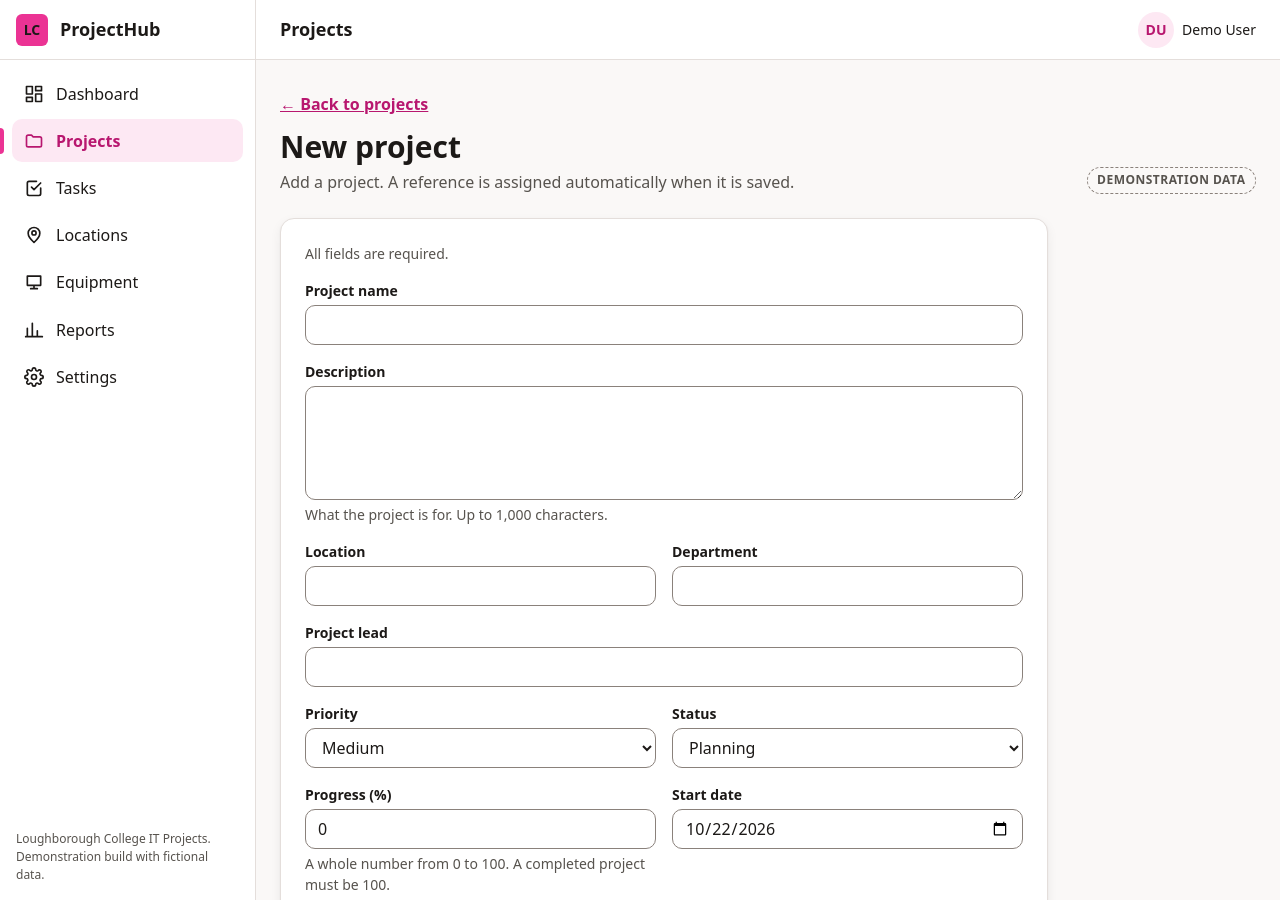
Test case: creating a project › saves, shows a confirmation and opens the new project’s detail page
This screenshot has width=1280, height=900.
Expected: the heading "New project" is shown, [280,126,461,167]
Type "Foxtrot Wi-Fi" into the field labelled "Project name" at [664, 324], box [305,304,1023,344]
Type "Add access points." into the text box labelled "Description" at [664, 442], box [305,386,1023,500]
Type "Test Annexe" into the field labelled "Location" at [480, 586], box [305,566,656,606]
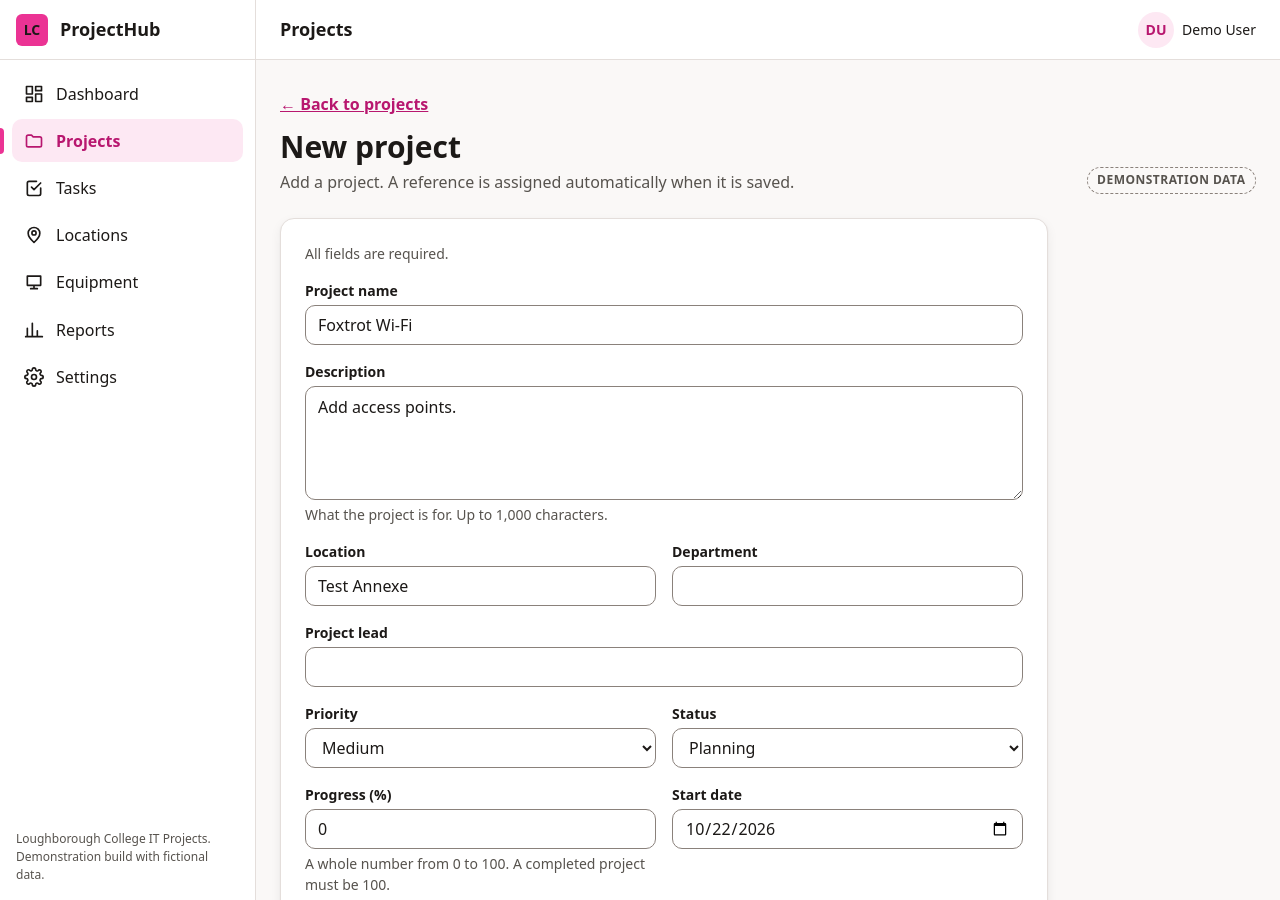
Type "Infrastructure" into the field labelled "Department" at [848, 586], box [672,566,1023,606]
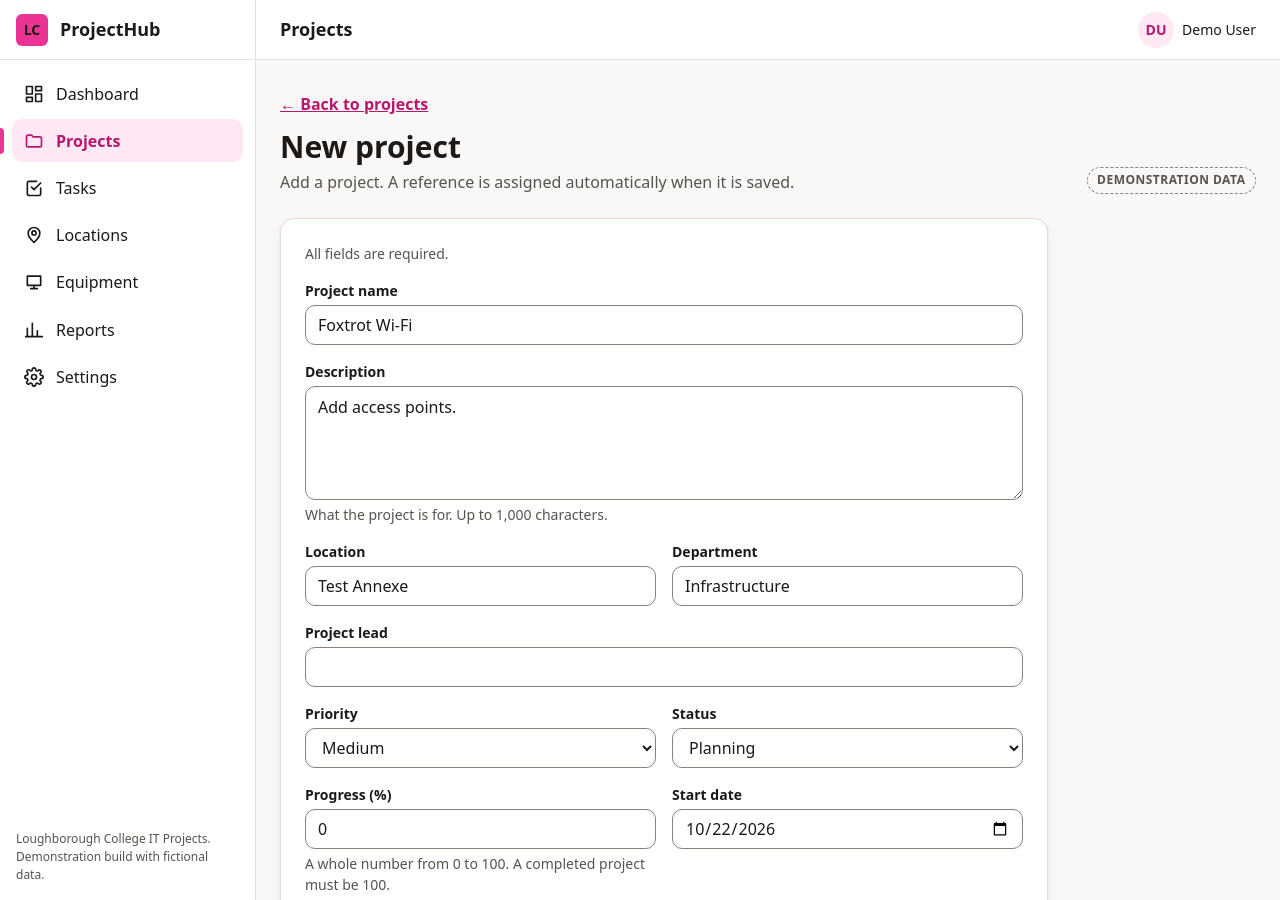
Type "Jamie Cole" into the field labelled "Project lead" at [664, 666], box [305,646,1023,686]
(page scrolled)
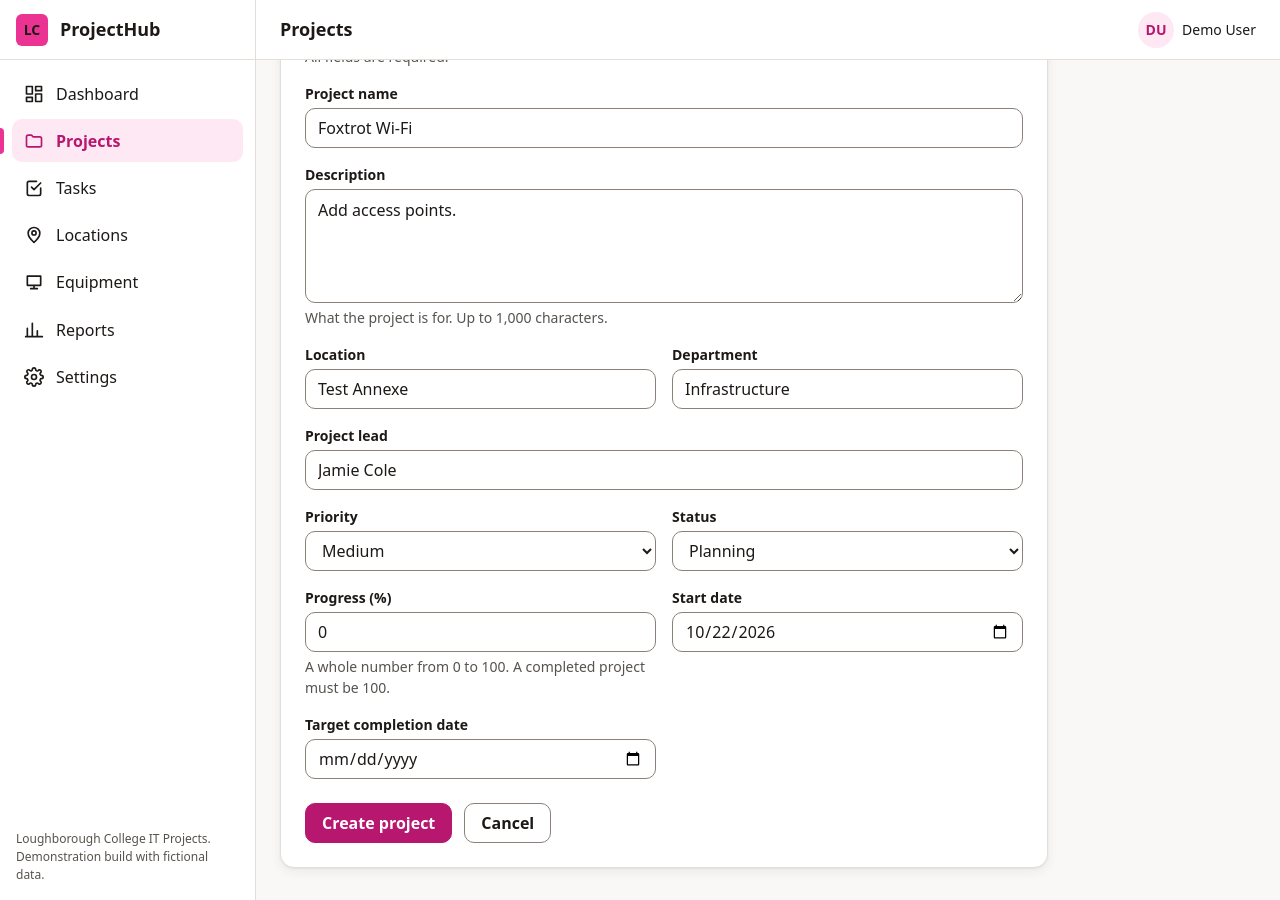
Type "2099-08-01" into the date field labelled "Target completion date" at [480, 758], box [305,738,656,778]
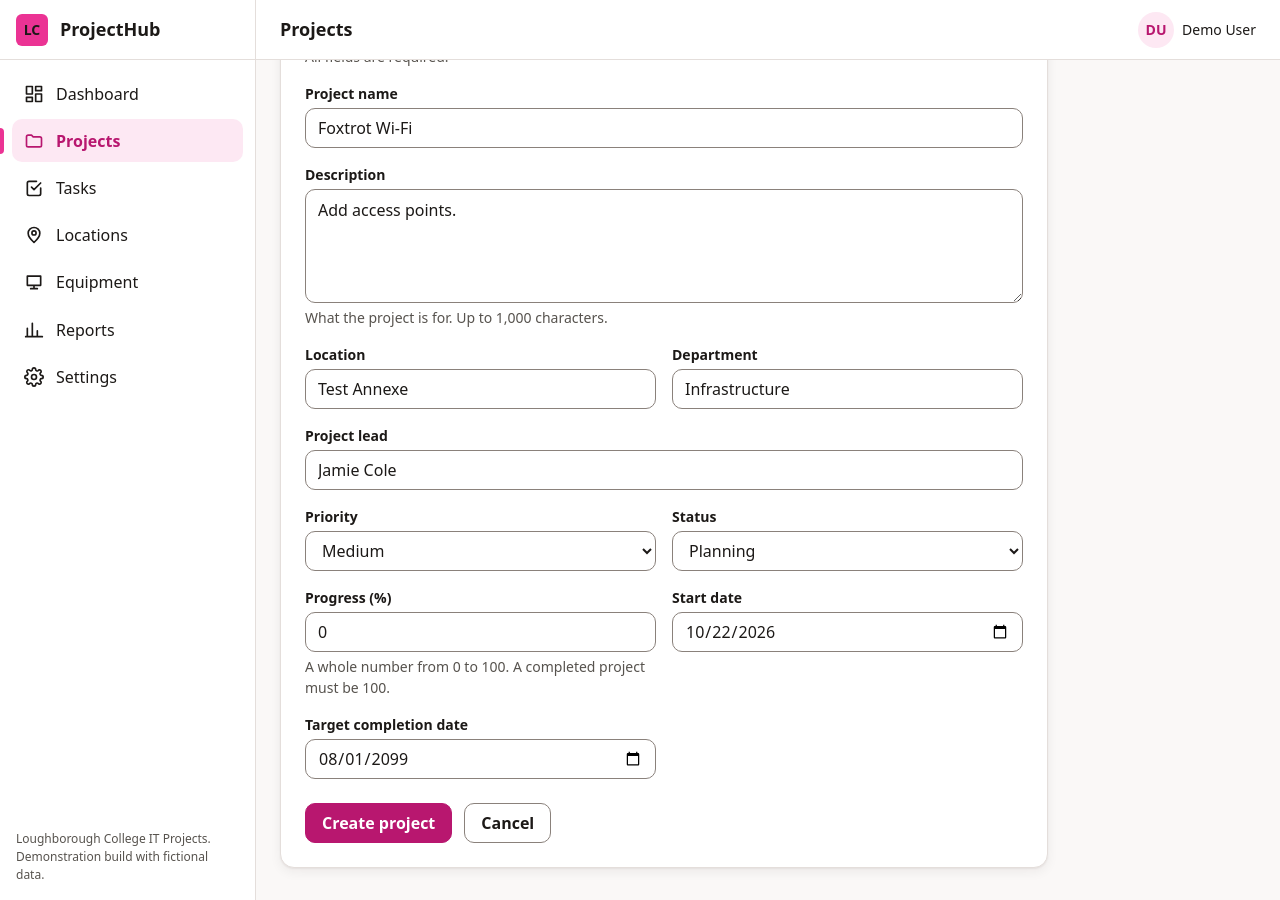
Type "2099-05-01" into the date field labelled "Start date" at [848, 632], box [672,612,1023,652]
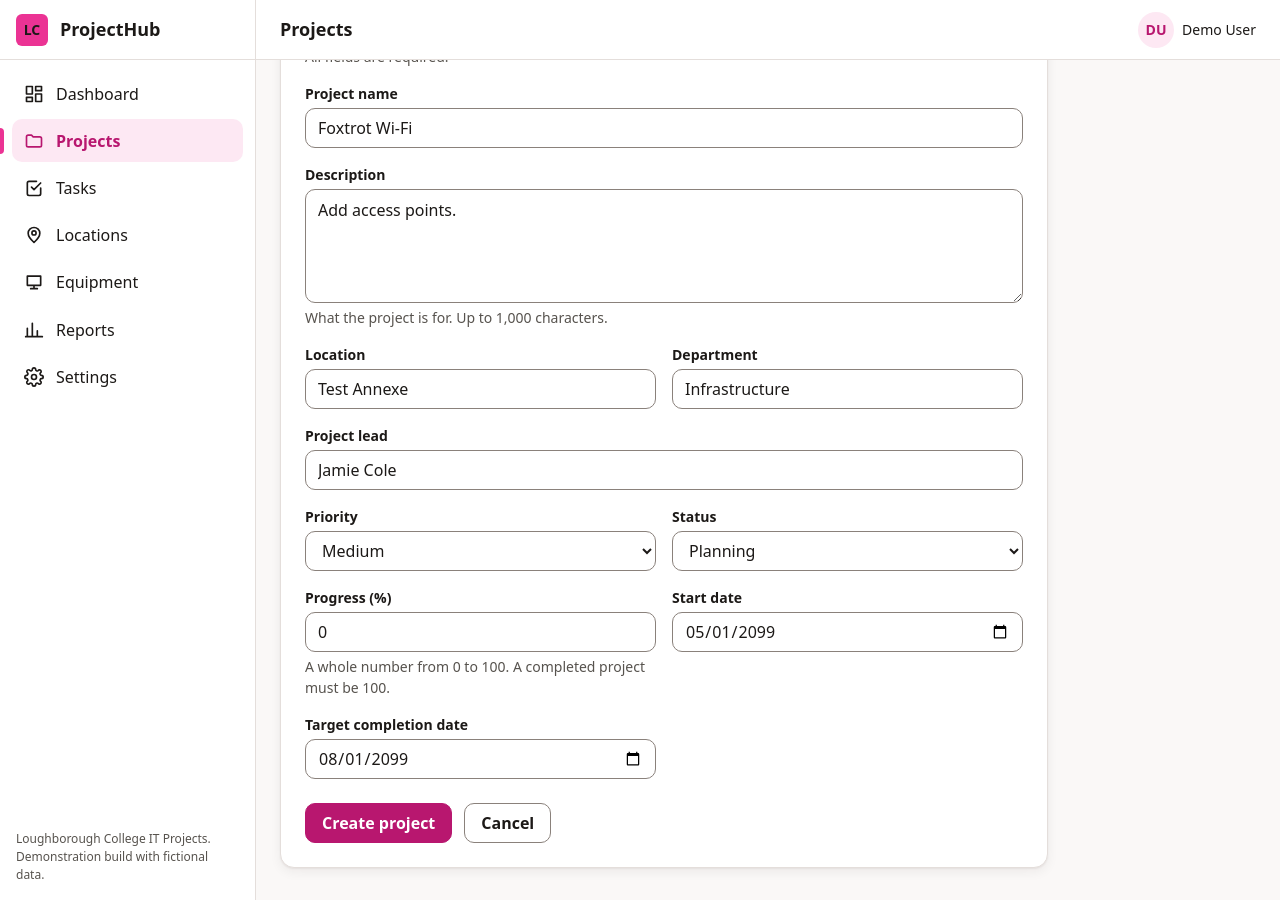
Click the button "Create project" at [379, 822], box [305,802,452,842]
(page scrolled)
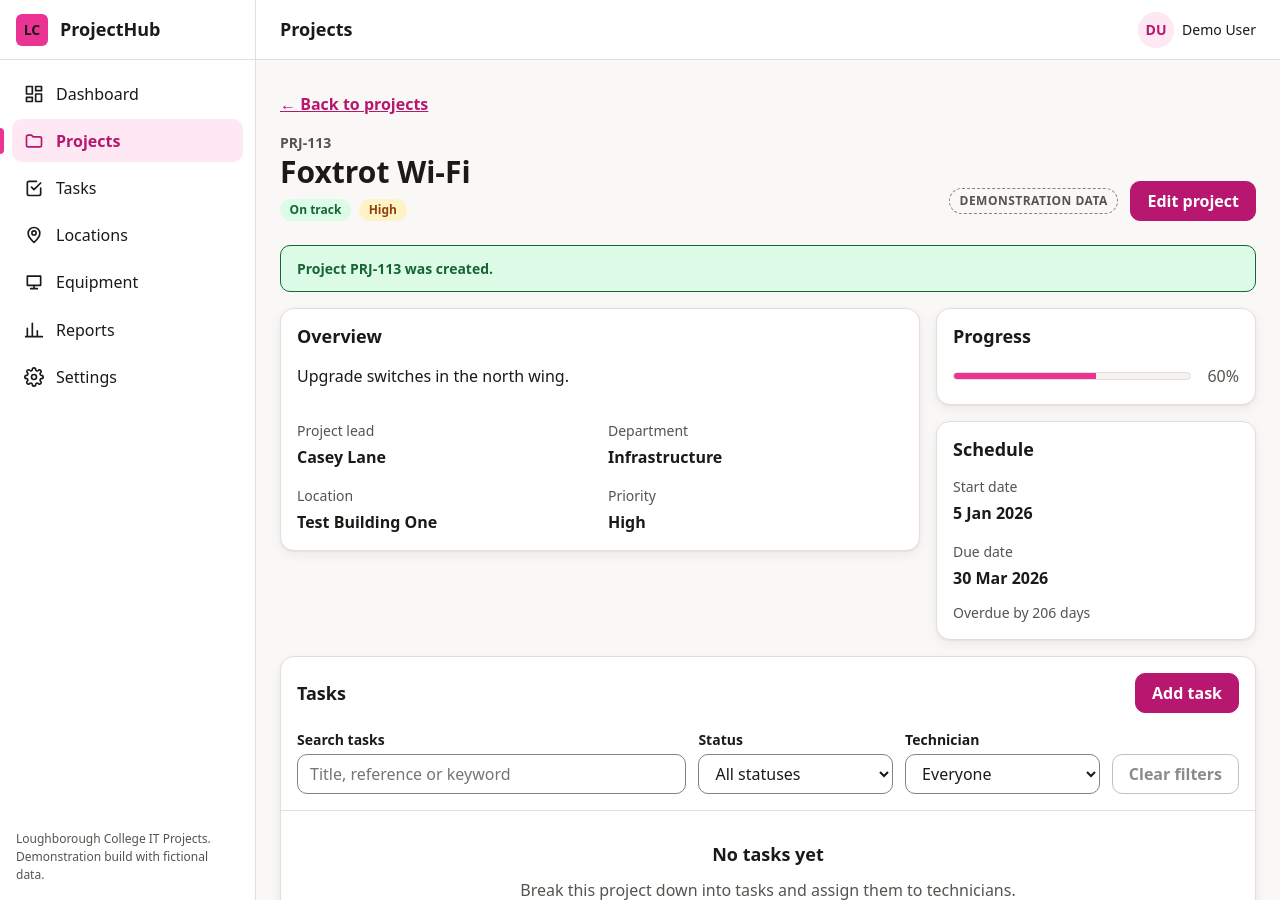
Result: the heading "Foxtrot Wi-Fi" is shown at [280,153,471,190]
Result: the text "Project PRJ-113 was created." is shown at [280,245,1256,292]
